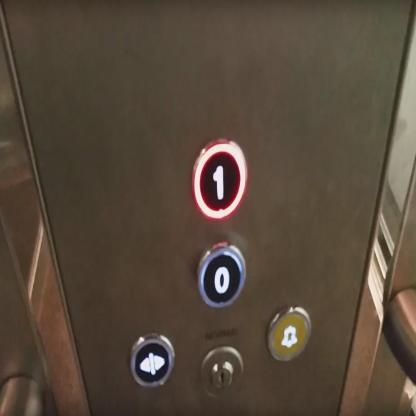0: (196, 242, 246, 308)
1: (191, 136, 248, 223)
alarm: (266, 304, 311, 362)
keyhole: (198, 346, 245, 397)
open: (130, 332, 174, 388)
